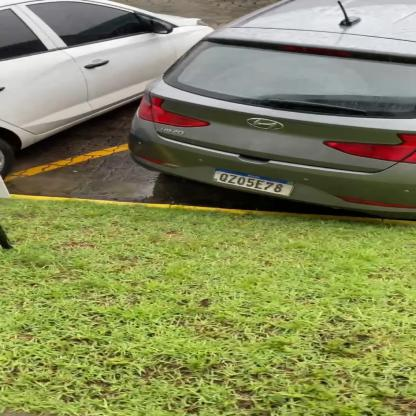Plate: (212, 162, 298, 200)
